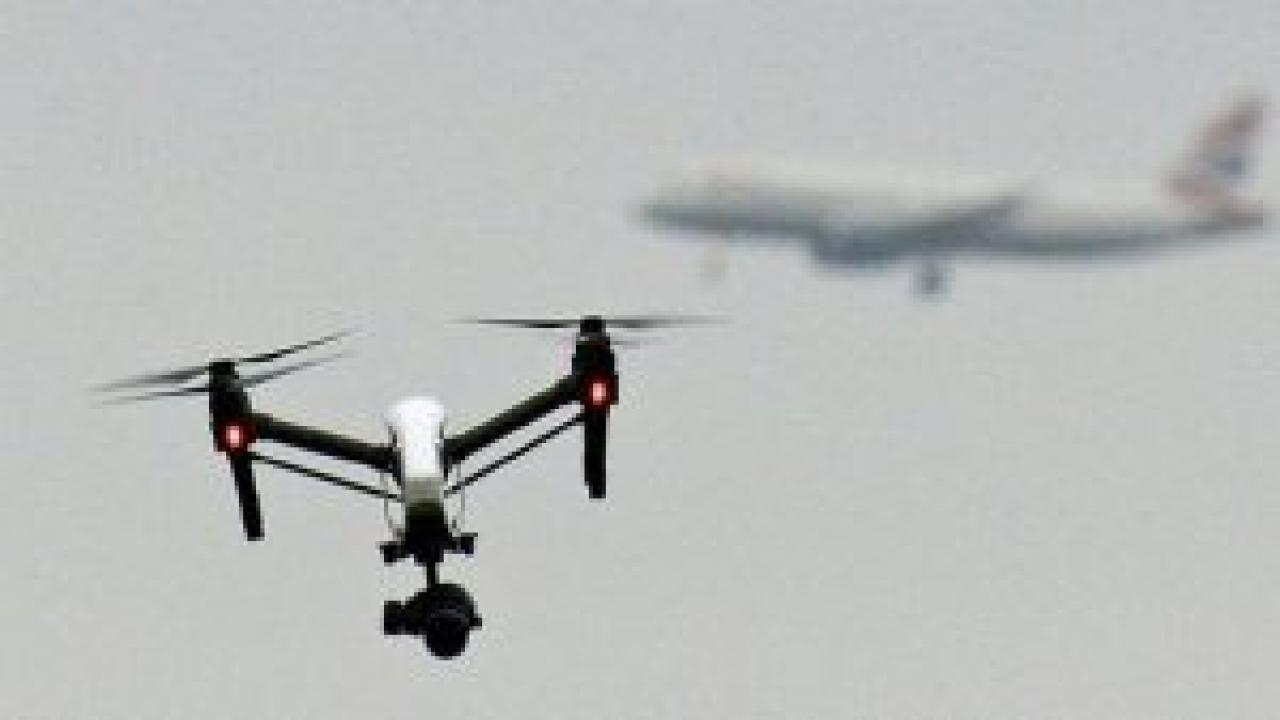Drone: (79, 305, 752, 672)
